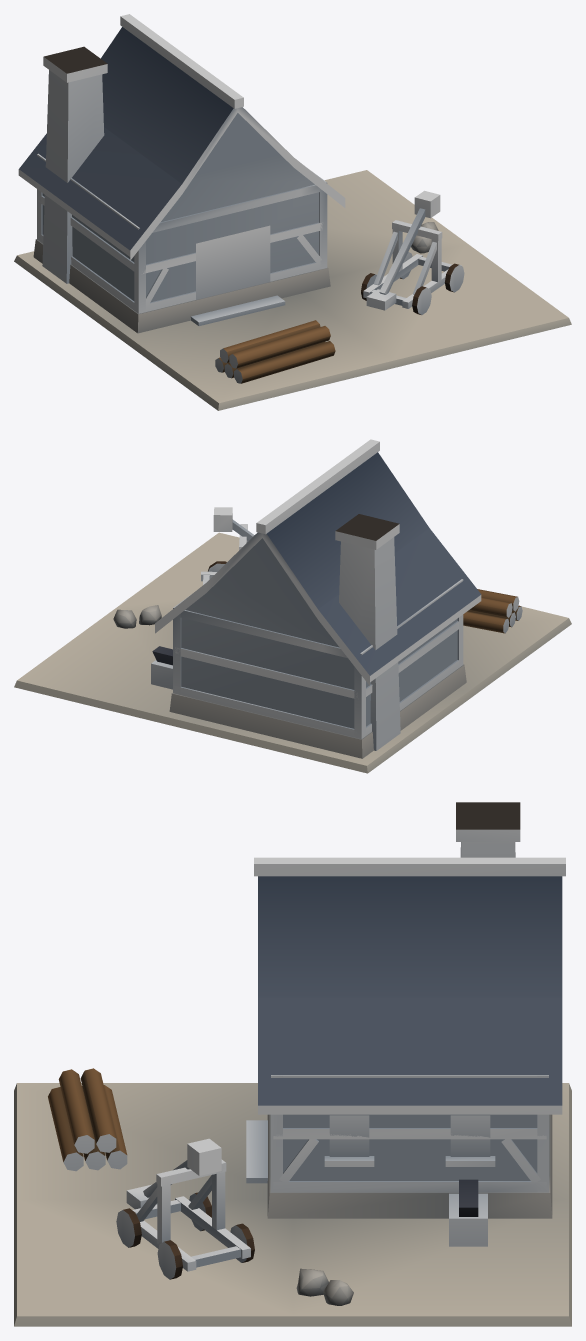
Rendered from siege_workshop_t2.glb.
The picture shows the model from 3 angles, top to bottom: view 1: azimuth 30°, elevation 25°; view 2: azimuth 150°, elevation 25°; view 3: azimuth 270°, elevation 25°; orthographic projection. The views are drawn at different scales.
Visible parts, largest first — view 1: siege_workshop_t2; view 2: siege_workshop_t2; view 3: siege_workshop_t2.
Boxes of the visible parts, x1,y1,x2,y2 form: siege_workshop_t2: [14, 14, 571, 410]; siege_workshop_t2: [14, 439, 571, 773]; siege_workshop_t2: [14, 802, 571, 1326].
Bounding box in the file's own units: 2.86 × 1.71 × 2.86.
